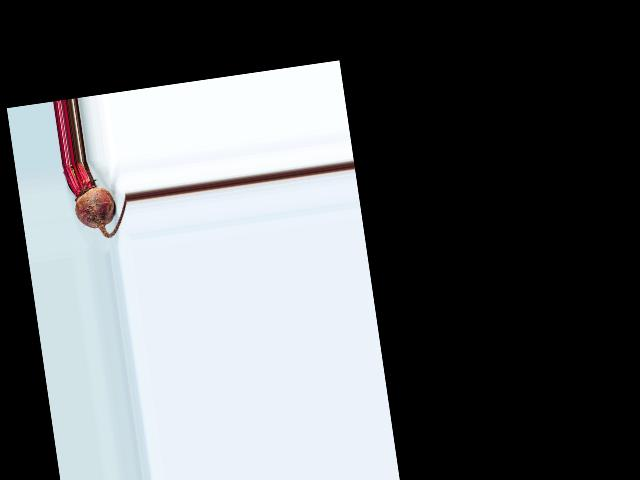beet: (62, 155, 131, 242)
